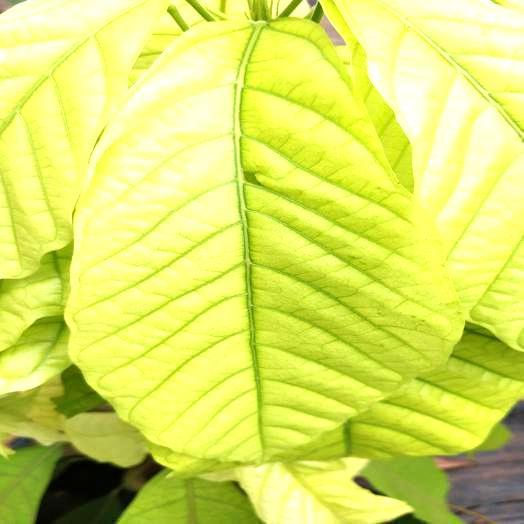Iron: (67, 21, 461, 461), (327, 0, 523, 355), (0, 0, 166, 278)
